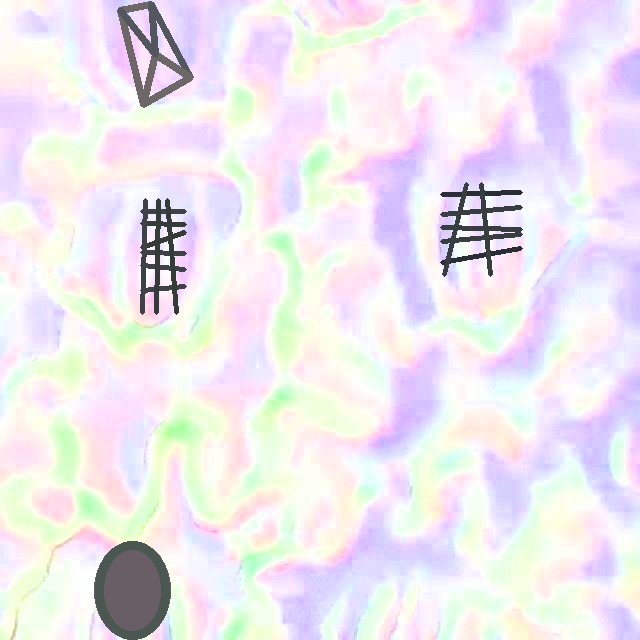open: (118, 1, 192, 106), (441, 182, 522, 275), (95, 541, 170, 639), (140, 198, 186, 313)
